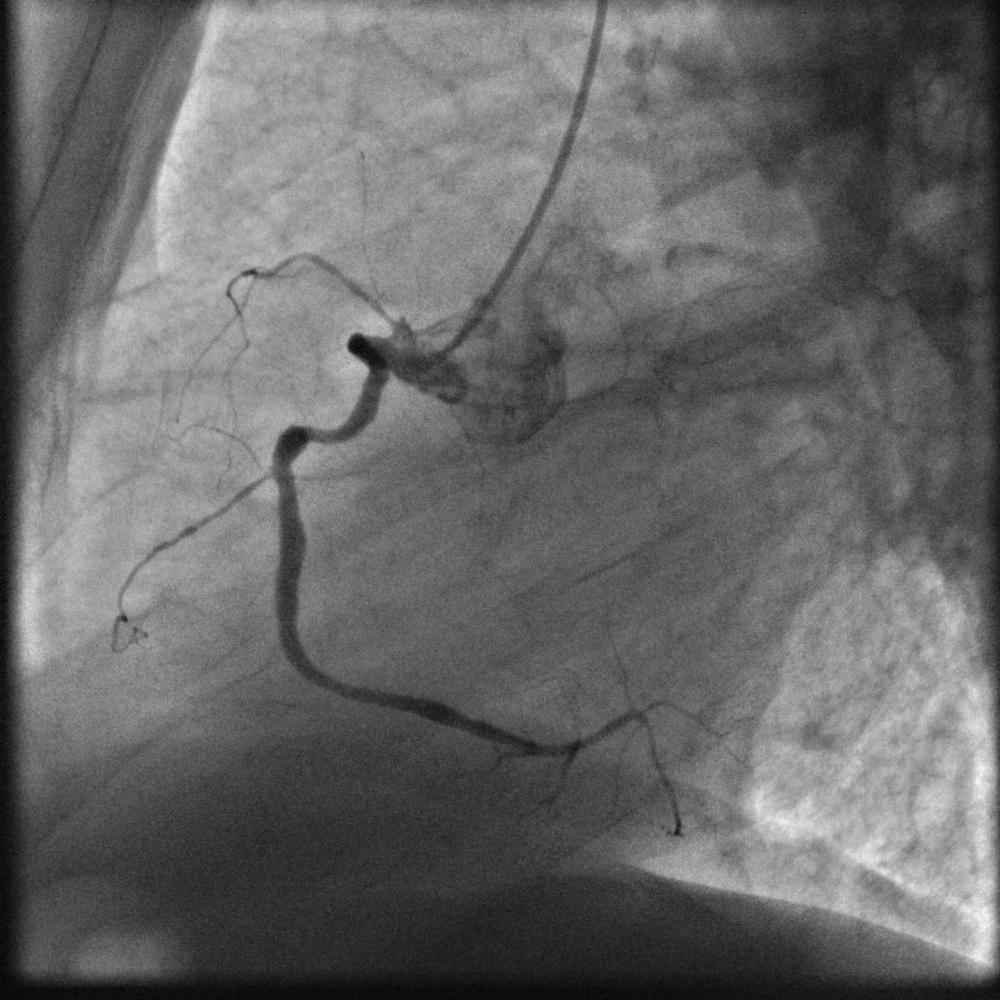Stenosis: (305, 421, 333, 446)
